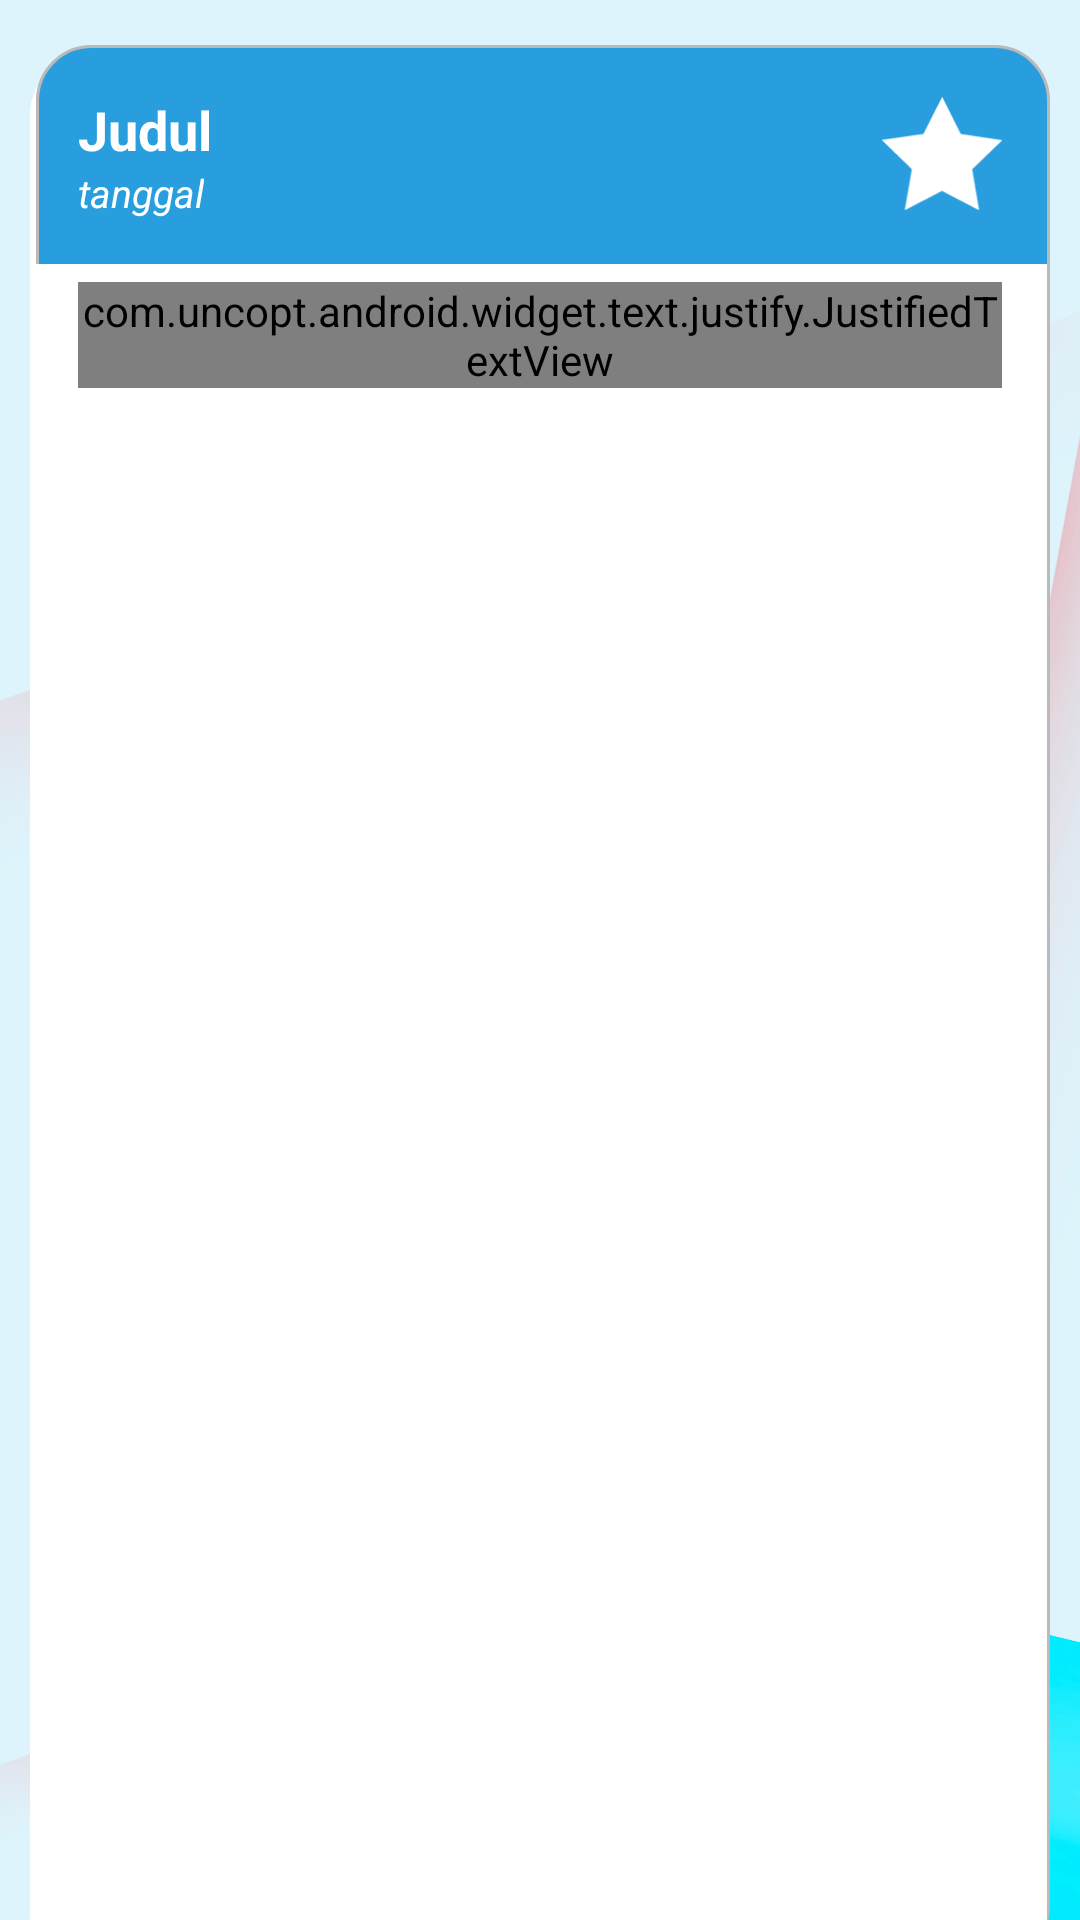

Screen size 1080w x 1920h. Icon name, then its box in pixels as bbox=[x1, y1, x2, y2]:
favorites standby: bbox=[882, 97, 1002, 210]
